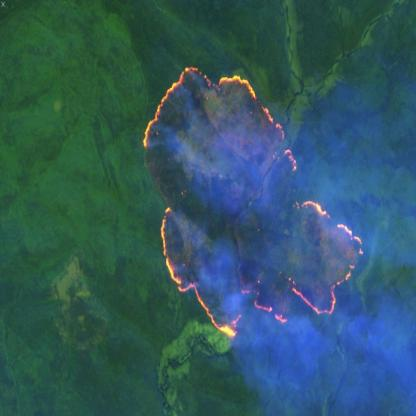fire: (136, 58, 366, 347)
